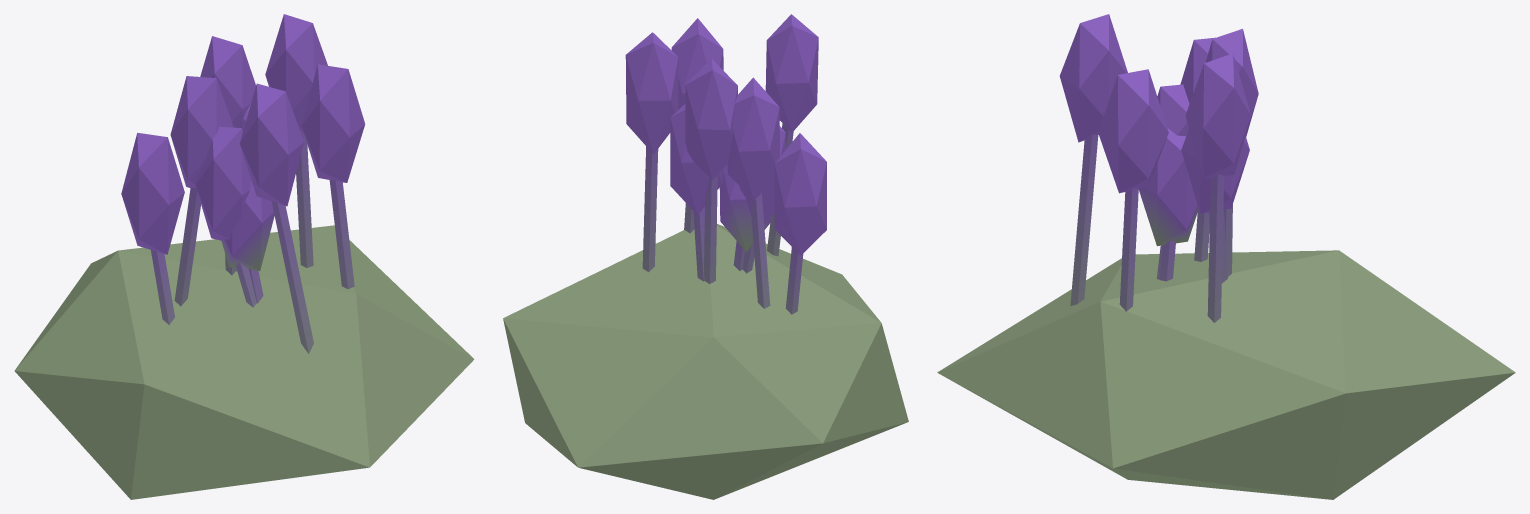
Rendered from lavender_0.glb.
3 views of the same model, side by side, from view 1: azimuth 30°, elevation 25°; view 2: azimuth 150°, elevation 25°; view 3: azimuth 270°, elevation 25° (orthographic). The views are drawn at different scales.
Visible parts, largest first — view 1: lavender_0; view 2: lavender_0; view 3: lavender_0.
Part boxes in pixels (box(x1,y1,x2,y2)): lavender_0: box(14, 14, 474, 499); lavender_0: box(503, 14, 908, 499); lavender_0: box(937, 14, 1515, 499).
Size of the model in its own units: 0.667 by 0.7501 by 0.9022.
